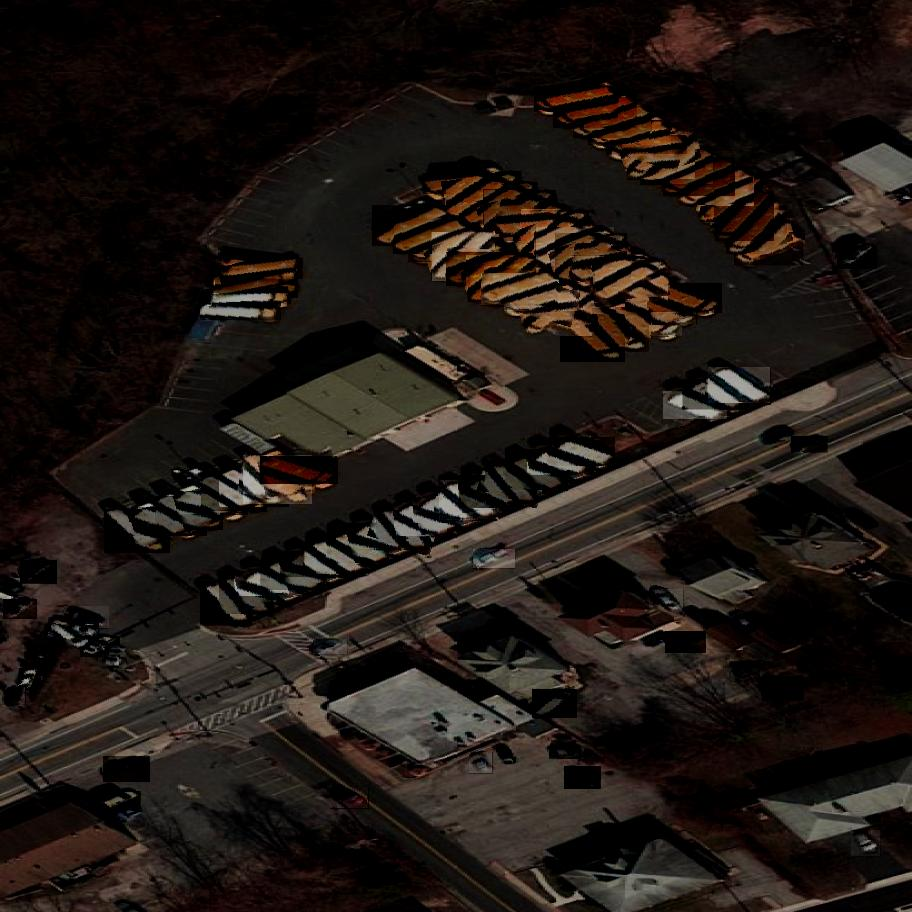large-vehicle: (555, 229, 629, 290), (484, 185, 556, 247), (522, 205, 590, 270), (243, 449, 312, 512), (447, 167, 522, 223), (628, 125, 695, 187), (579, 300, 649, 359), (468, 250, 537, 309), (432, 227, 496, 290), (559, 309, 625, 370), (523, 284, 592, 342), (463, 178, 538, 231), (372, 200, 451, 250), (716, 185, 775, 249), (594, 256, 668, 307), (700, 172, 765, 229), (727, 202, 788, 262), (104, 503, 170, 558), (536, 225, 614, 271), (663, 154, 736, 201), (376, 498, 431, 558), (219, 563, 275, 621), (220, 466, 289, 513), (446, 249, 525, 290), (679, 167, 754, 210), (304, 531, 368, 581), (486, 451, 540, 510), (198, 574, 252, 632), (640, 147, 714, 189), (553, 95, 637, 132), (708, 360, 771, 409), (573, 103, 652, 142), (439, 475, 499, 526), (393, 216, 467, 257), (506, 448, 569, 496), (481, 271, 558, 310), (155, 491, 223, 534), (647, 280, 722, 318), (408, 229, 485, 266), (624, 290, 697, 328), (201, 474, 267, 516), (326, 524, 389, 568), (735, 230, 804, 270), (262, 552, 326, 595), (131, 505, 207, 541), (394, 498, 457, 541), (458, 471, 524, 512), (261, 453, 337, 487), (534, 85, 620, 115), (607, 305, 682, 339), (570, 255, 651, 286), (684, 375, 748, 413), (548, 434, 616, 469), (588, 118, 670, 147), (214, 272, 300, 299), (235, 566, 303, 600), (413, 492, 479, 526), (664, 387, 728, 422), (347, 521, 413, 553), (280, 549, 348, 580), (175, 489, 248, 517), (527, 447, 592, 478), (423, 174, 505, 196), (504, 289, 579, 313), (221, 258, 303, 279), (607, 135, 687, 156), (496, 218, 578, 238), (200, 306, 280, 321), (213, 294, 291, 307)
small-vehicle: (531, 685, 577, 724), (103, 754, 150, 786), (762, 673, 805, 707), (63, 603, 110, 634), (730, 658, 775, 687), (665, 627, 707, 658), (52, 623, 91, 656), (649, 581, 684, 617), (838, 241, 877, 273), (79, 631, 119, 662), (331, 783, 369, 814), (49, 616, 99, 639), (565, 762, 603, 792), (21, 559, 58, 588), (101, 788, 141, 814), (474, 548, 516, 572), (852, 828, 881, 860), (3, 596, 37, 622), (313, 635, 347, 658), (791, 435, 828, 455), (733, 607, 757, 634), (469, 751, 493, 776), (20, 666, 42, 693), (7, 684, 27, 710), (550, 745, 581, 760), (103, 648, 126, 667), (495, 746, 515, 765)
